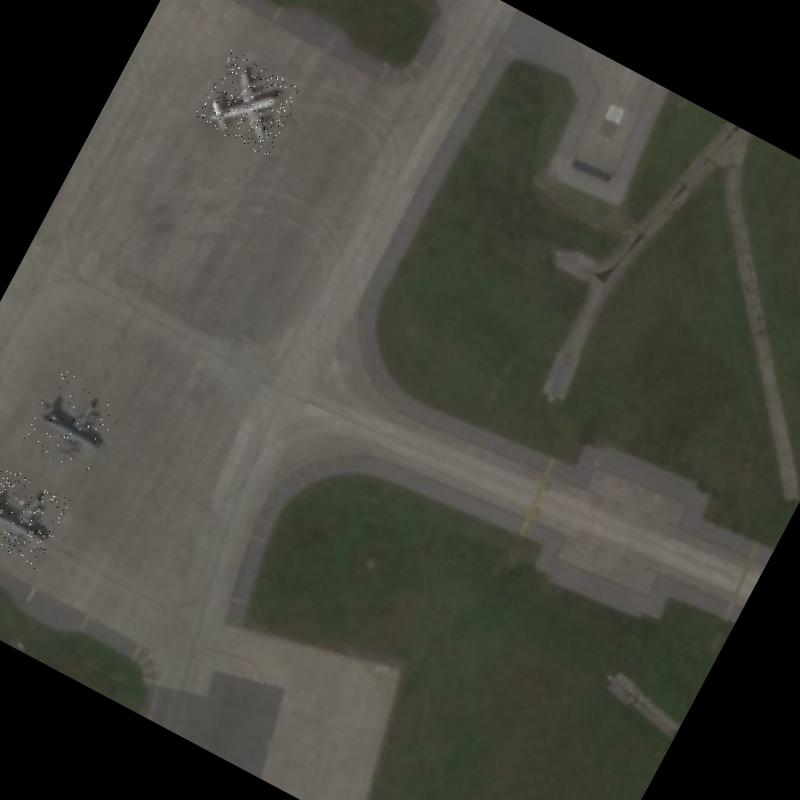A9: (192, 48, 304, 158), (19, 364, 128, 477), (0, 462, 72, 569)
